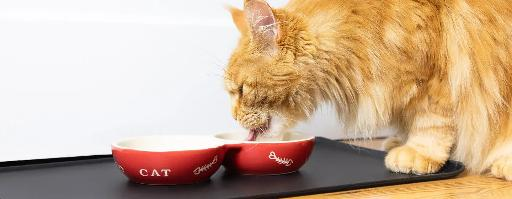cat_eating: (112, 0, 512, 185)
